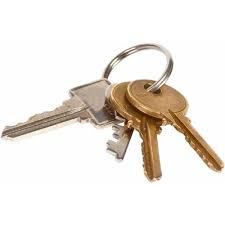kicharina: (127, 74, 225, 183)
